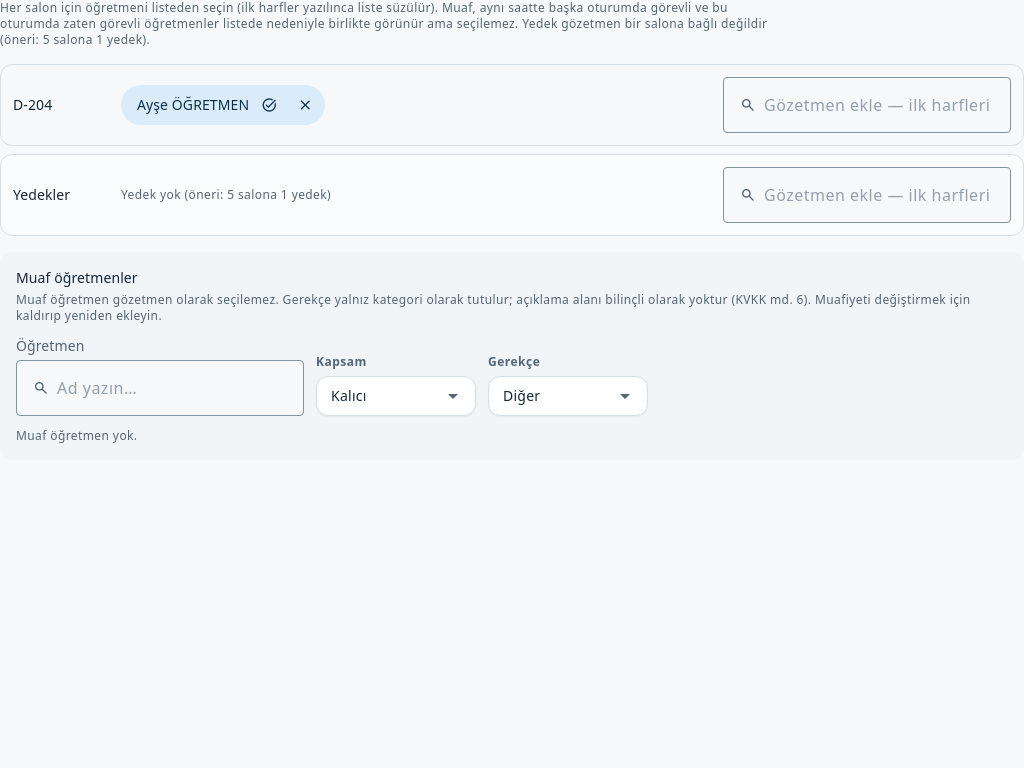
Test: GozetmenlerPaneli › tebellüğ onayında 'Vazgeç' denirse uç çağrılmaz (DAĞITILDI — chip düğmesi)
Click the button named "Ayşe ÖĞRETMEN tebellüğ işle": (269, 105) [253, 89, 285, 121]
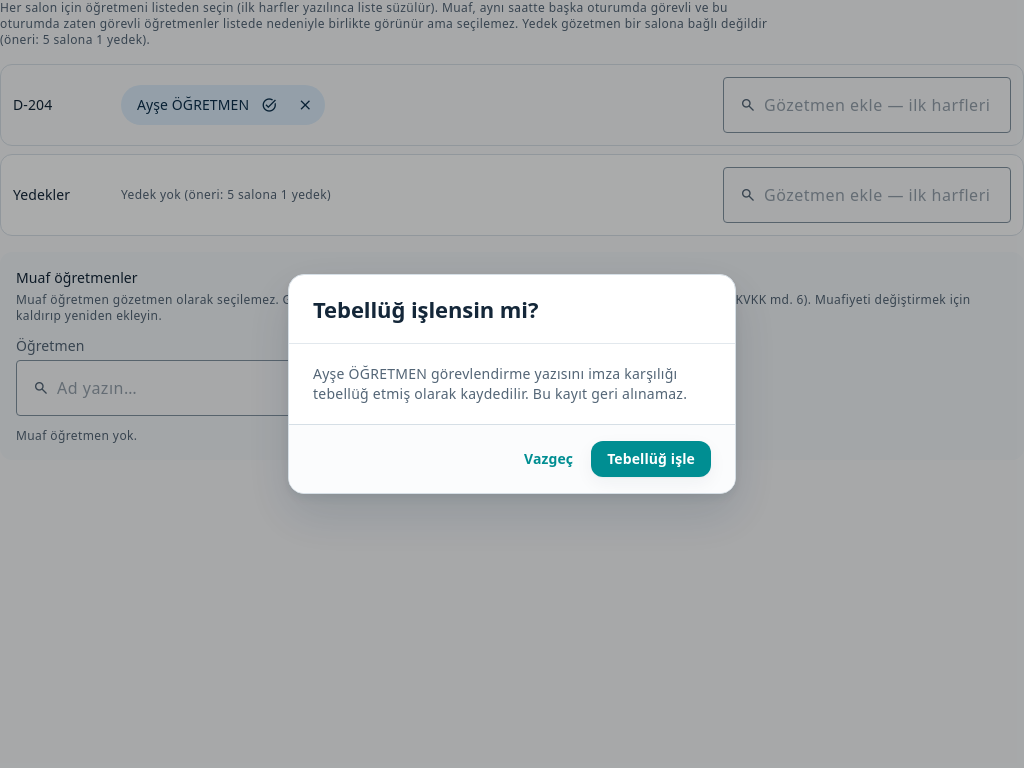
Click the button "Vazgeç": (549, 459) [514, 441, 583, 477]
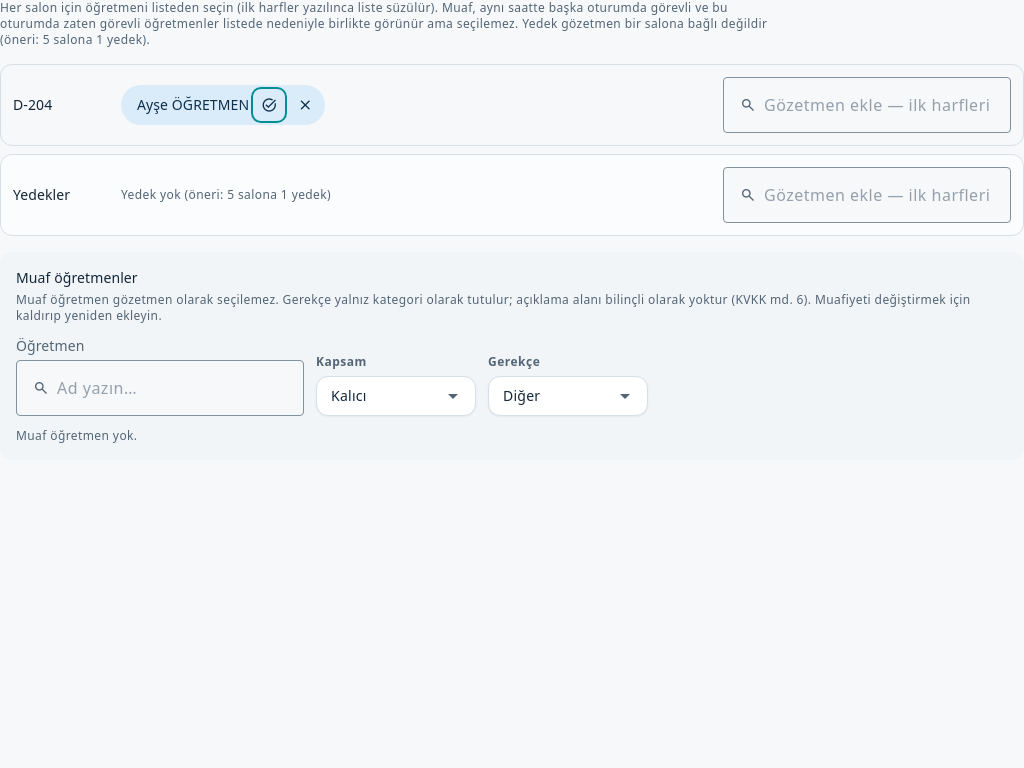
Check: the dialog is gone
